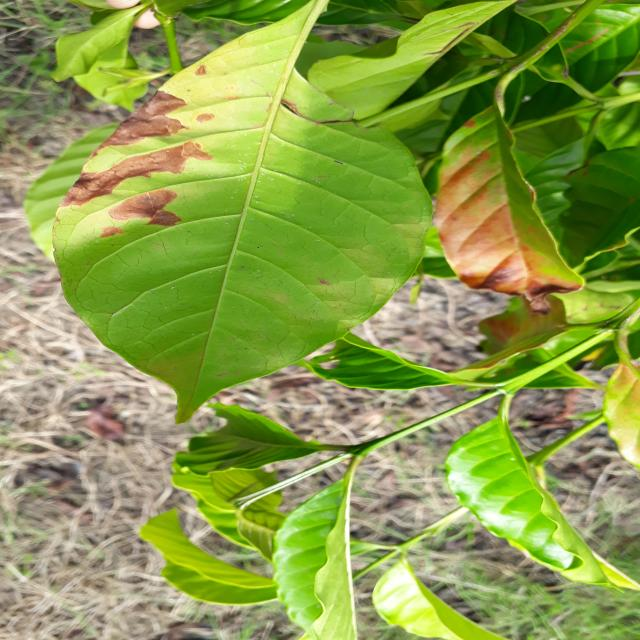Plaga-AranaRoja: (50, 0, 447, 423)
